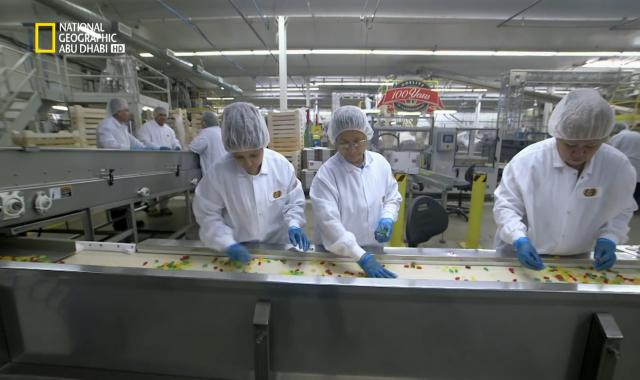hairnet: (545, 90, 611, 148), (223, 103, 269, 152), (330, 106, 373, 140), (108, 95, 130, 123), (198, 112, 218, 130), (153, 106, 170, 126)
